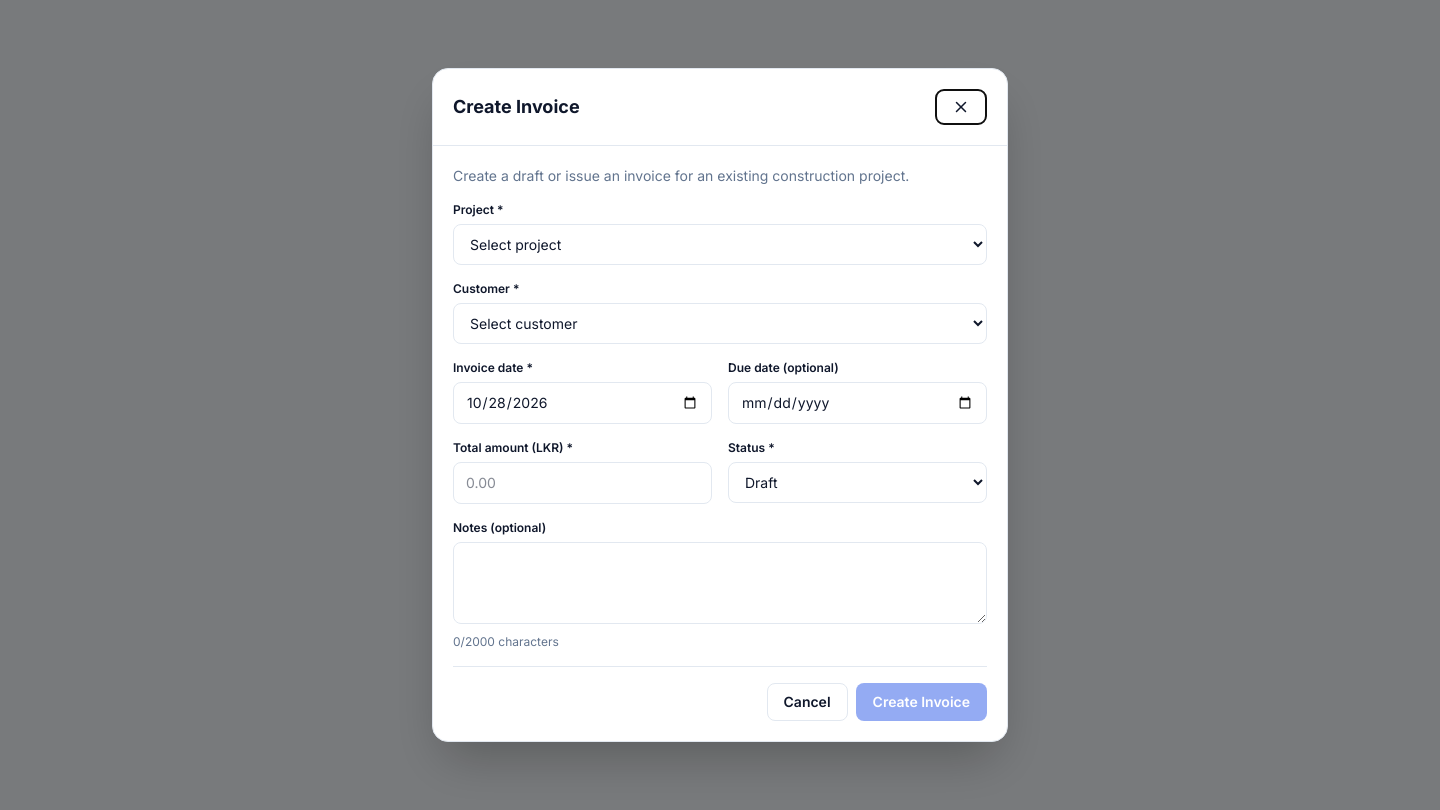
Scenario: displays field errors and does not submit invalid invoice details
Select "Site Alpha" in the dropdown labelled "Project *" at point(720, 244), box x1=453 y1=224 x2=987 y2=265
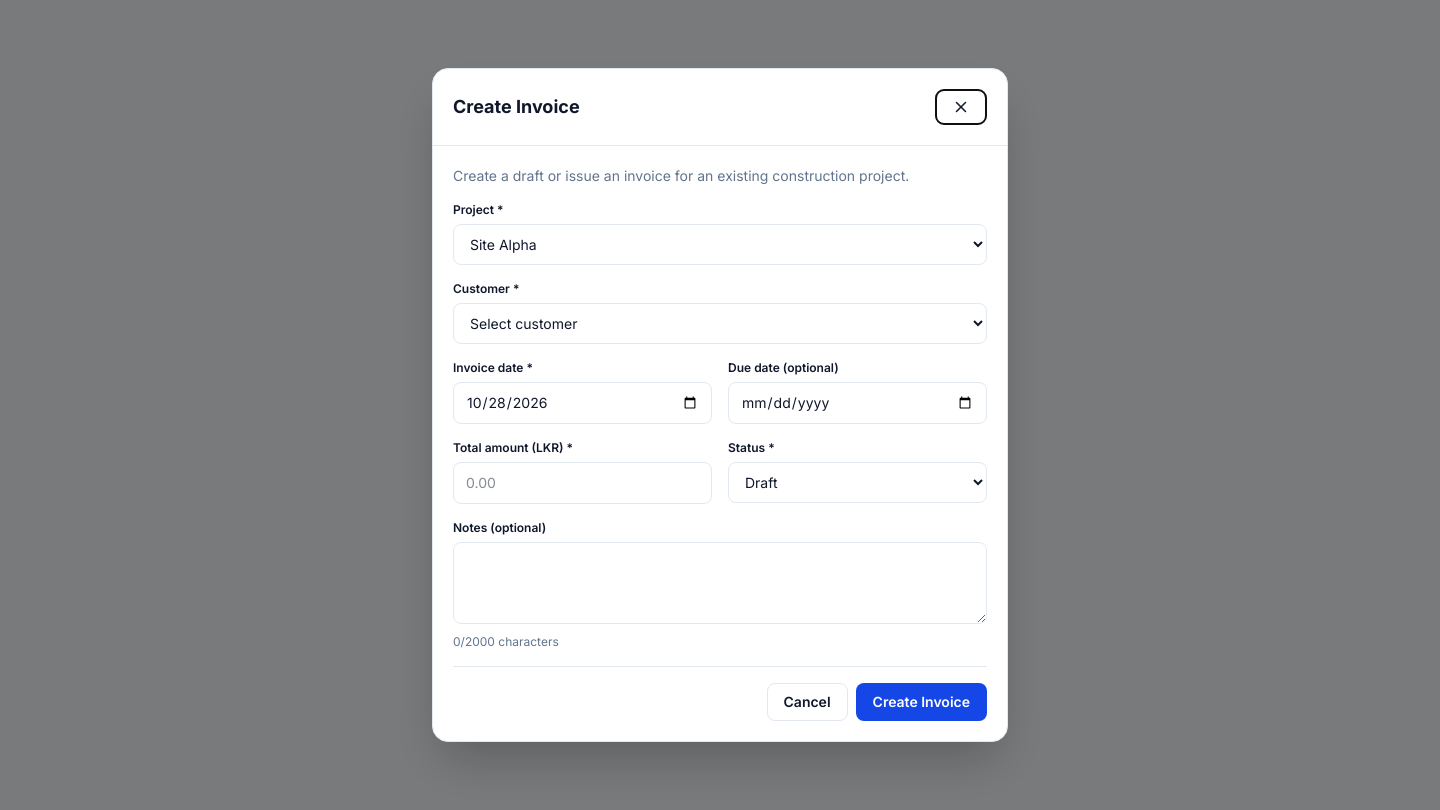
Select "Alice Customer" in the dropdown labelled "Customer *" at point(720, 324), box x1=453 y1=303 x2=987 y2=344
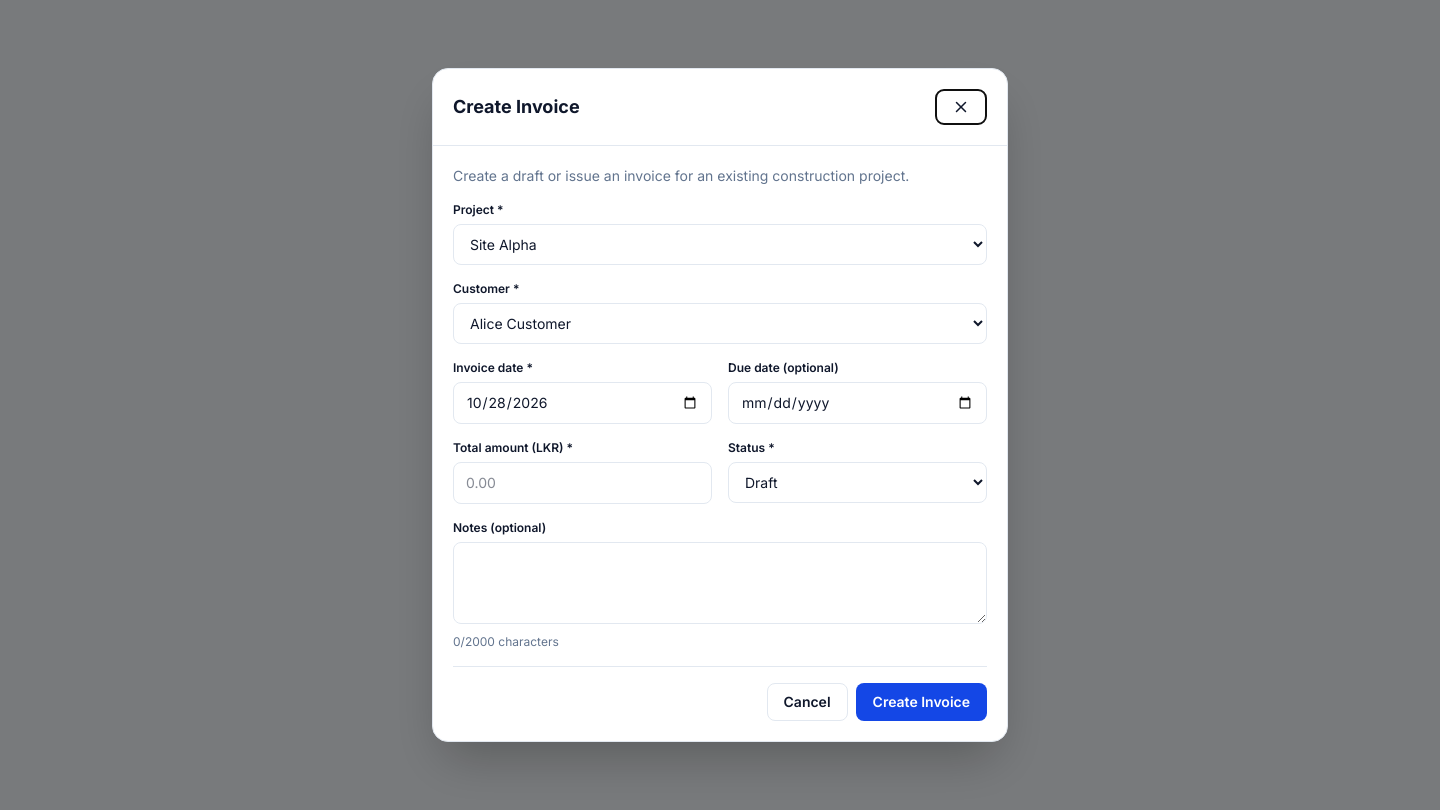
Type "125.50" into the field labelled "Total amount (LKR) *".
click(582, 483); type("125.50")  # box x1=453 y1=462 x2=712 y2=504
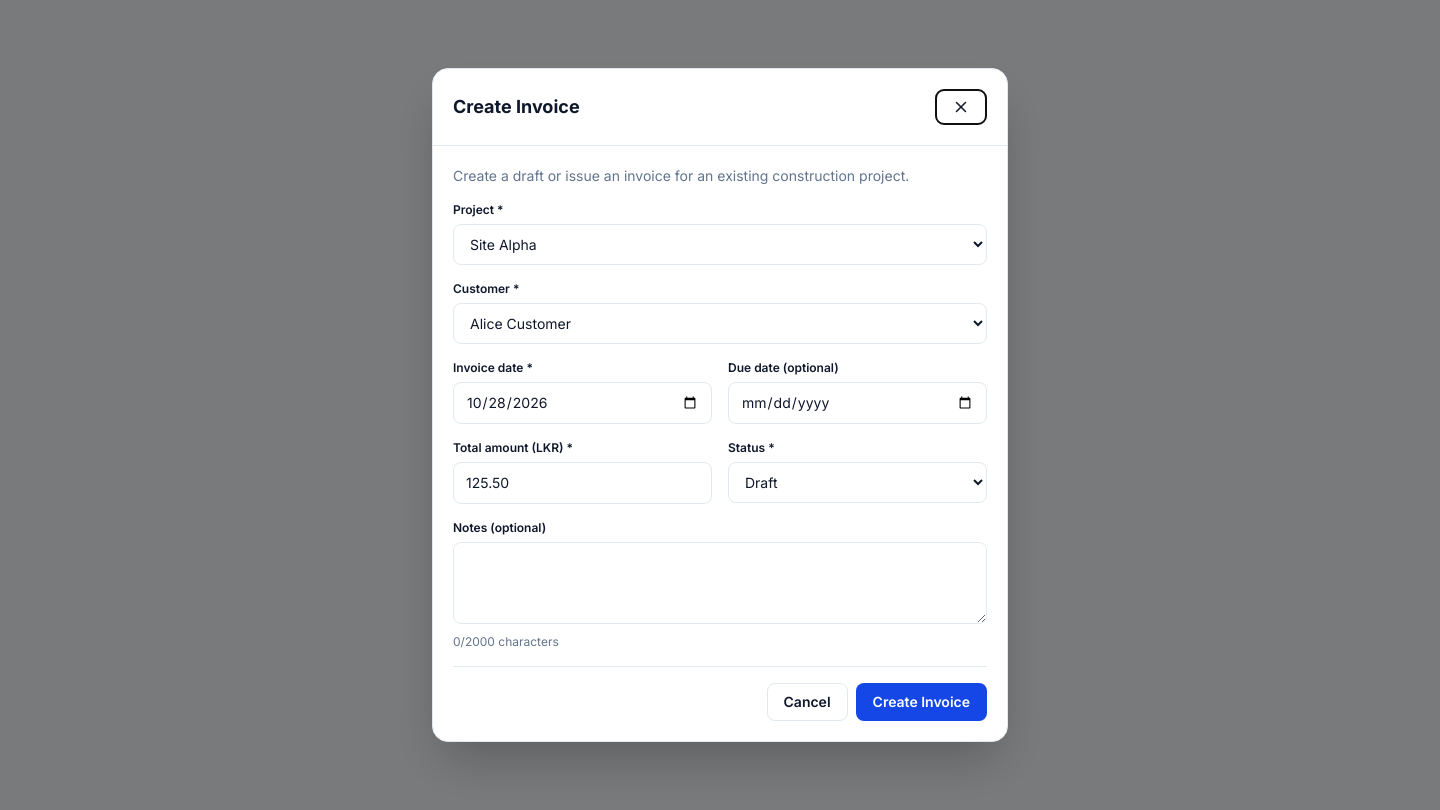
Replace the text in the field labelled "Total amount (LKR) *" with "1.001" at point(582, 483), box x1=453 y1=462 x2=712 y2=504
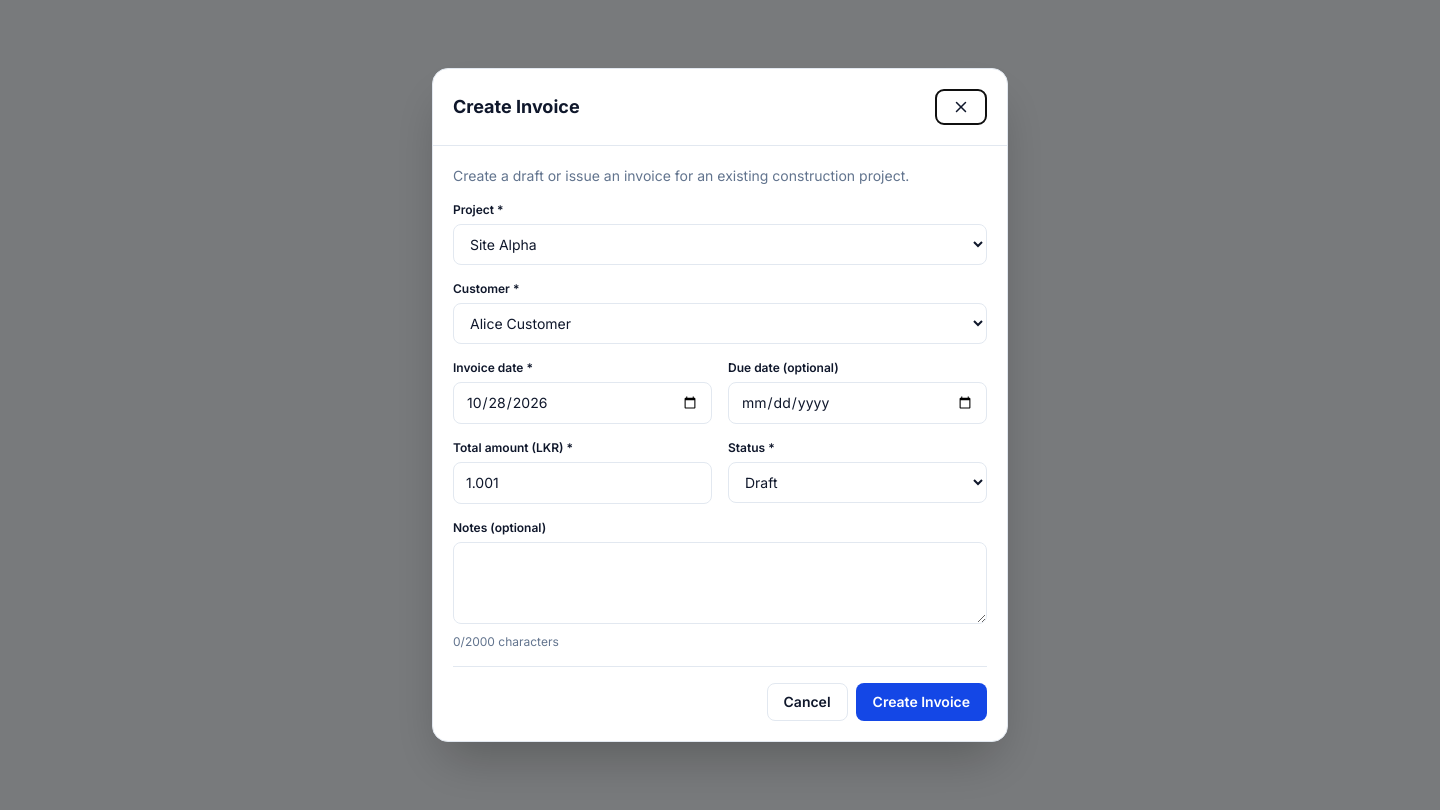
Click the button "Create Invoice".
click(921, 702)  # box x1=856 y1=683 x2=987 y2=721
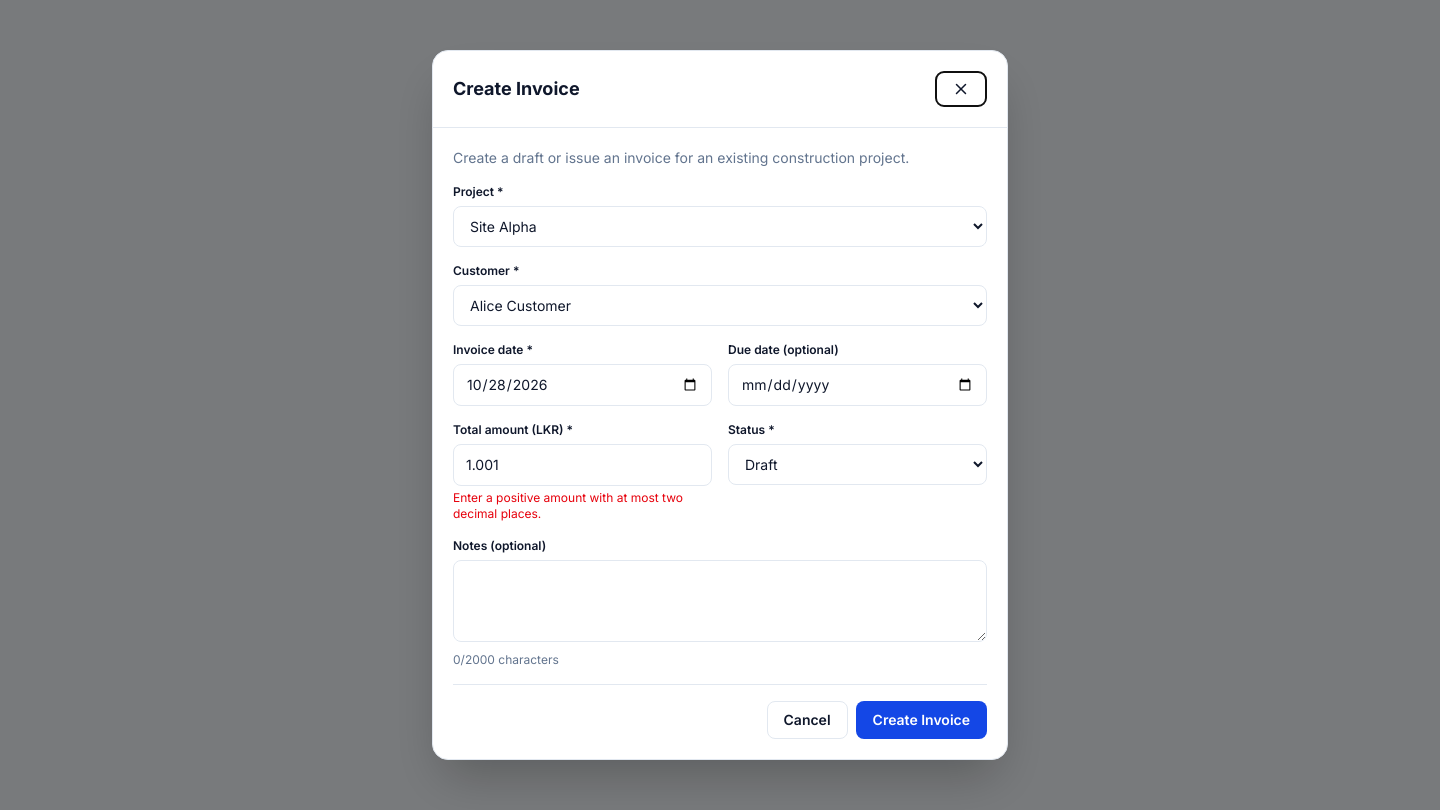
Check: the text "Enter a positive amount with at most two decimal places." is shown, box x1=453 y1=490 x2=712 y2=522
